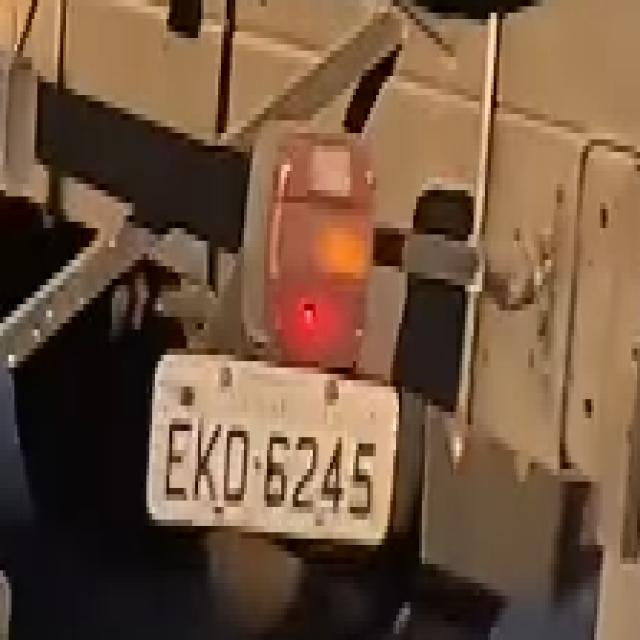Placa_mercosul_carro: (149, 350, 399, 543)
